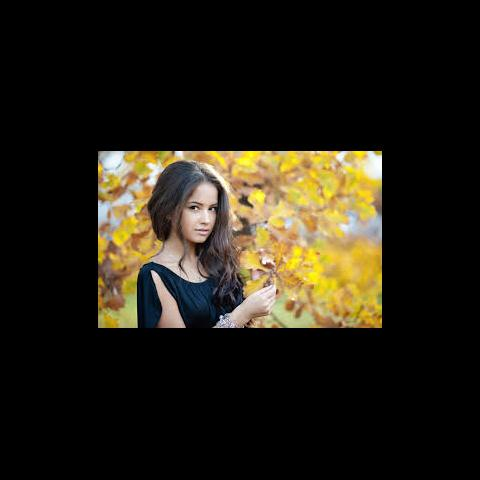opened: (187, 200, 222, 217)
